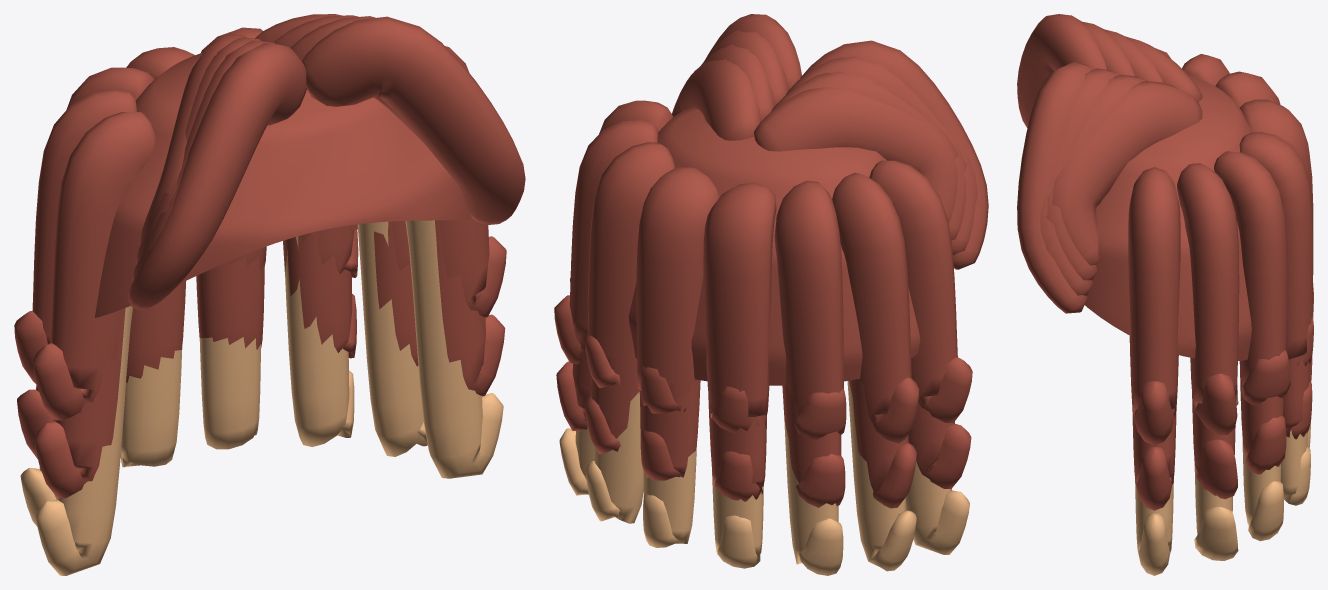
The model's file is studio_wolf_long.glb.
The picture shows the model from 3 angles, left to right: view 1: azimuth 30°, elevation 25°; view 2: azimuth 150°, elevation 25°; view 3: azimuth 270°, elevation 25°; orthographic projection. The views are drawn at different scales.
Parts seen in each view (by area): view 1: wolf; view 2: wolf; view 3: wolf.
Part boxes in pixels (x1=…): wolf: x1=14, y1=14, x2=525, y2=575; wolf: x1=554, y1=14, x2=988, y2=575; wolf: x1=1017, y1=14, x2=1313, y2=575.
Bounding box in the file's own units: 0.5986 × 0.641 × 0.3861.
